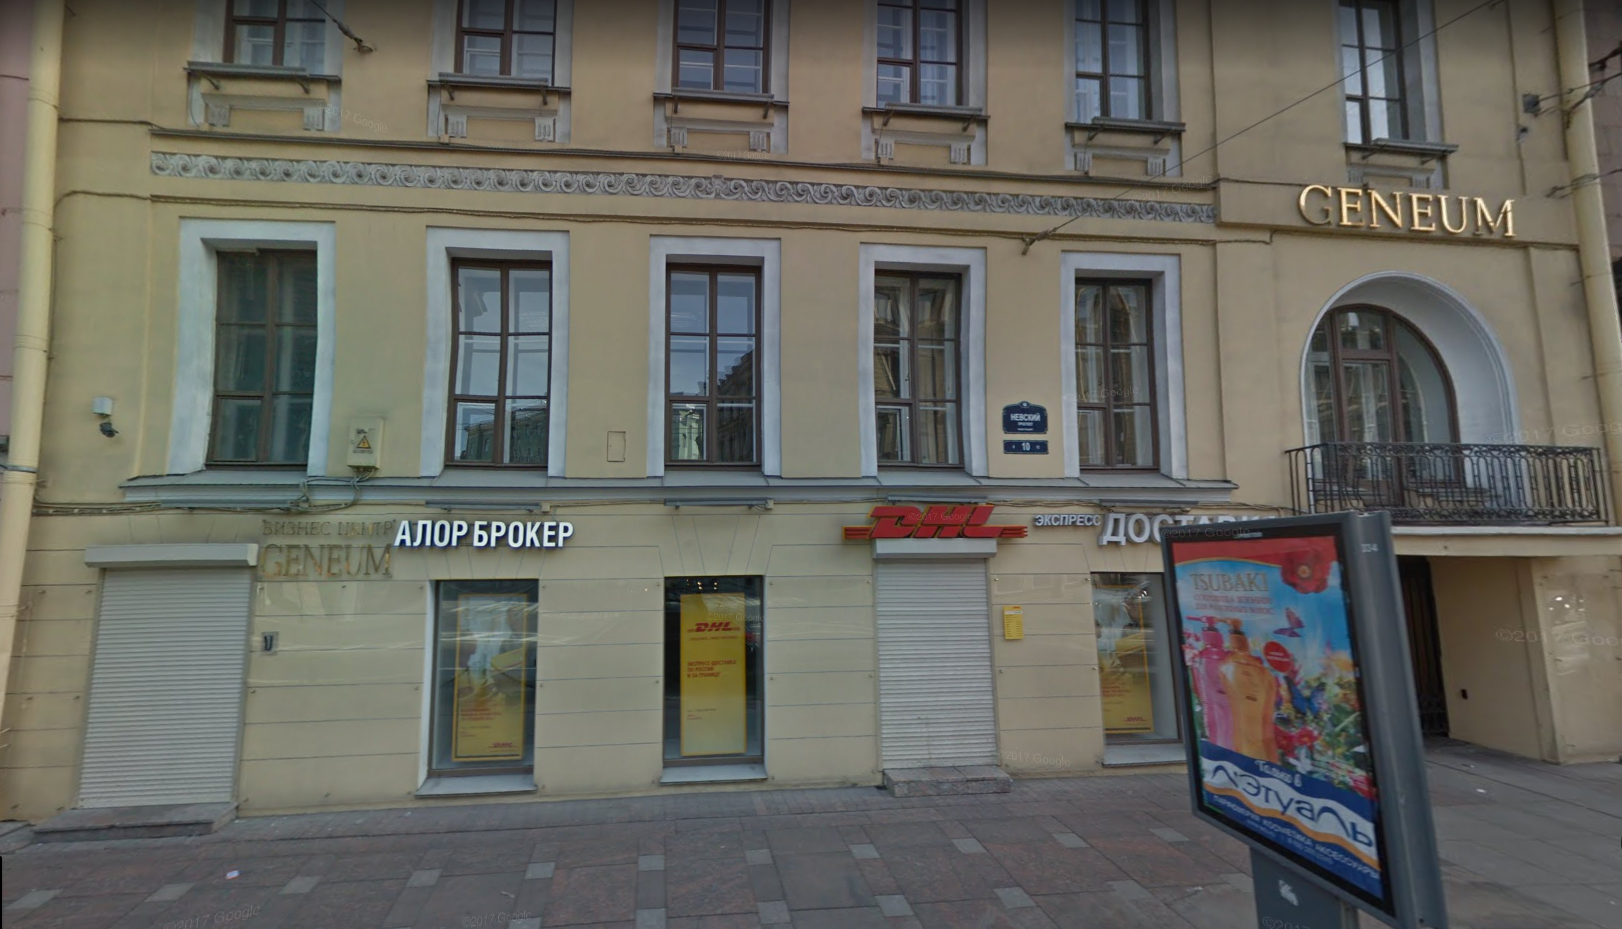signboard: (1289, 170, 1525, 252), (830, 490, 1101, 546), (390, 514, 571, 552)
win_ad: (674, 590, 745, 755), (451, 588, 519, 759)
window: (1302, 299, 1469, 493), (192, 252, 316, 467), (871, 256, 974, 468), (428, 580, 536, 780), (659, 263, 762, 472), (447, 262, 548, 473), (661, 578, 768, 778), (1074, 278, 1159, 476), (1100, 571, 1164, 749)
